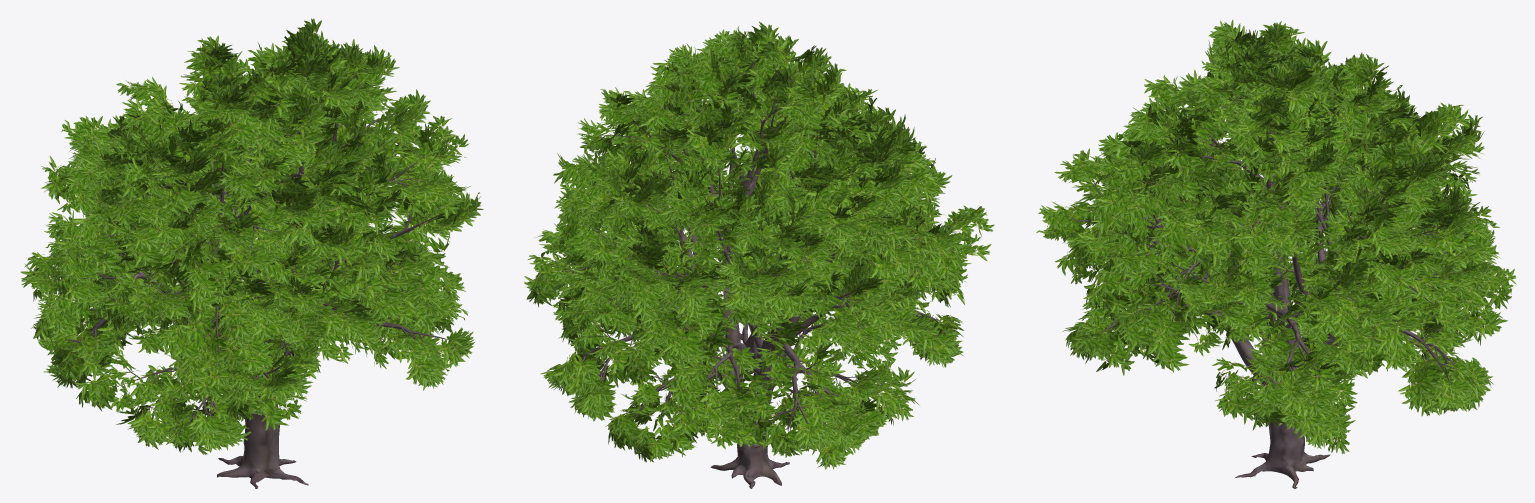
The model's file is mango-tree-meshopt.glb.
3 renders of one model, left to right at view 1: azimuth 30°, elevation 25°; view 2: azimuth 150°, elevation 25°; view 3: azimuth 270°, elevation 25°, orthographic. The views are drawn at different scales.
Bounding box in the file's own units: 6.69 × 6.86 × 6.76.
Materials: 2 (2 with a texture image).
